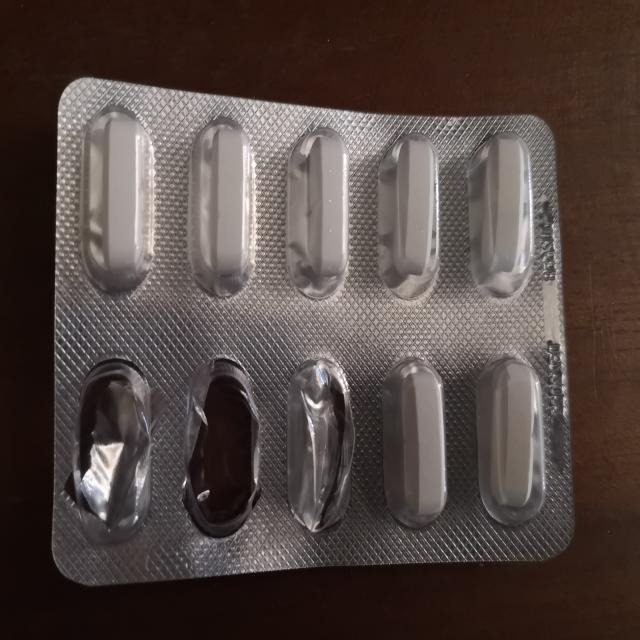Empty: (69, 352, 158, 548), (180, 349, 266, 543), (277, 352, 358, 538)
Pill: (78, 99, 158, 299), (184, 110, 259, 300), (471, 351, 549, 529), (463, 127, 538, 306), (380, 354, 454, 531), (284, 117, 353, 303), (373, 127, 445, 305)
